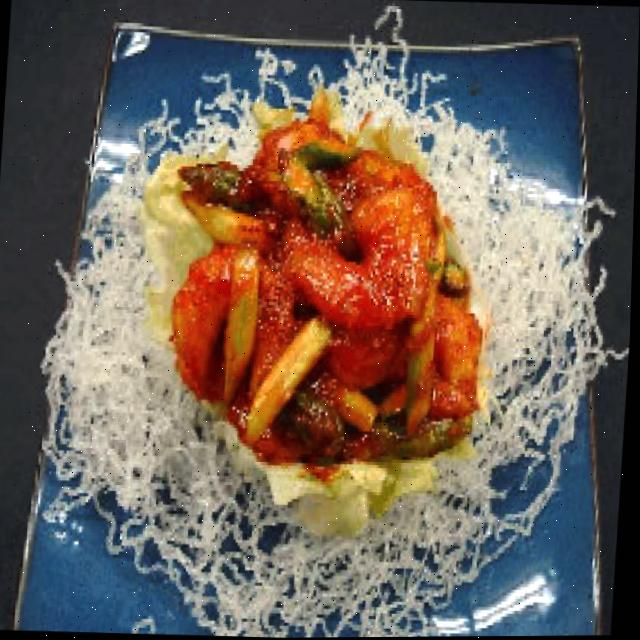熟制海鲜: (137, 85, 502, 495)
